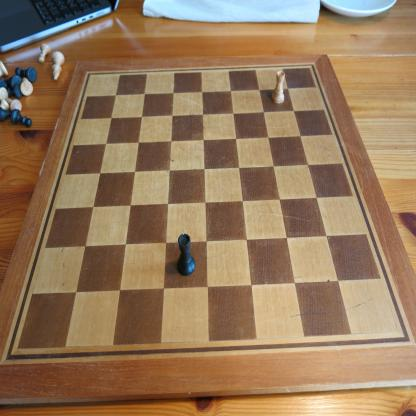black-pawn: (10, 108, 33, 128)
black-rook: (177, 233, 196, 277)
white-bishop: (51, 50, 66, 82)
white-pawn: (38, 42, 51, 64)
white-rook: (272, 70, 286, 104)
